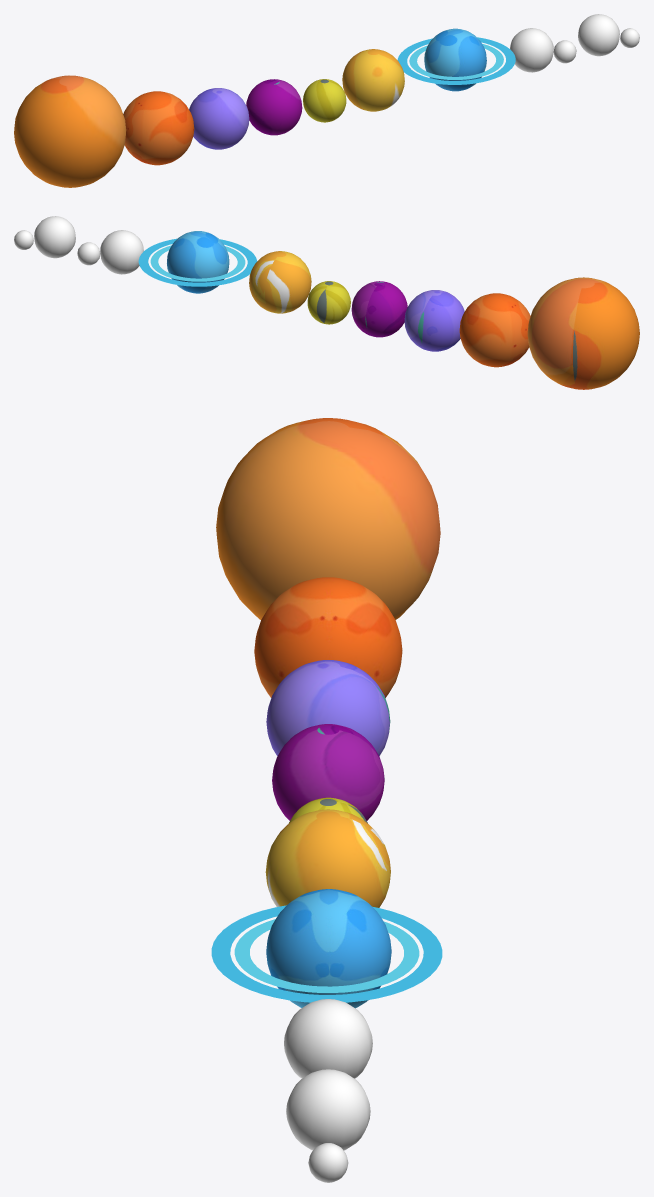
File: MDL_20_Planetas_0.fbx
3 views of the same model, one above another, from view 1: azimuth 30°, elevation 25°; view 2: azimuth 150°, elevation 25°; view 3: azimuth 270°, elevation 25° (orthographic). The views are drawn at different scales.
Visible parts, largest first — view 1: MDL_Planeta_11, MDL_Planeta_6, MDL_Planeta_2, MDL_Planeta_5, MDL_Planeta_3, MDL_Planeta_1, MDL_Planeta_7, MDL_Planeta_4, MDL_Planeta_9, MDL_Planeta_8, MDL_Planeta_10; view 2: MDL_Planeta_11, MDL_Planeta_6, MDL_Planeta_2, MDL_Planeta_5, MDL_Planeta_3, MDL_Planeta_1, MDL_Planeta_7, MDL_Planeta_4, MDL_Planeta_9, MDL_Planeta_8, MDL_Planeta_10; view 3: MDL_Planeta_11, MDL_Planeta_6, MDL_Planeta_2, MDL_Planeta_5, MDL_Planeta_1, MDL_Planeta_3, MDL_Planeta_7, MDL_Planeta_9, MDL_Planeta_10.
Boxes of the visible parts, x1,y1,x2,y2 form: MDL_Planeta_11: [14, 75, 126, 187]; MDL_Planeta_6: [397, 28, 515, 91]; MDL_Planeta_2: [123, 91, 194, 165]; MDL_Planeta_5: [342, 49, 404, 111]; MDL_Planeta_3: [189, 88, 249, 149]; MDL_Planeta_1: [246, 79, 302, 135]; MDL_Planeta_7: [510, 28, 553, 72]; MDL_Planeta_4: [303, 79, 346, 122]; MDL_Planeta_9: [578, 14, 619, 56]; MDL_Planeta_8: [553, 40, 576, 63]; MDL_Planeta_10: [620, 28, 639, 47]; MDL_Planeta_11: [527, 277, 639, 389]; MDL_Planeta_6: [138, 231, 257, 293]; MDL_Planeta_2: [459, 293, 530, 367]; MDL_Planeta_5: [249, 251, 311, 313]; MDL_Planeta_3: [404, 290, 464, 351]; MDL_Planeta_1: [351, 281, 407, 337]; MDL_Planeta_7: [100, 230, 143, 274]; MDL_Planeta_4: [307, 281, 350, 324]; MDL_Planeta_9: [34, 216, 75, 258]; MDL_Planeta_8: [77, 242, 100, 265]; MDL_Planeta_10: [14, 230, 33, 249]; MDL_Planeta_11: [216, 418, 440, 619]; MDL_Planeta_6: [211, 889, 442, 1008]; MDL_Planeta_2: [254, 577, 402, 697]; MDL_Planeta_5: [265, 809, 390, 907]; MDL_Planeta_1: [272, 724, 384, 820]; MDL_Planeta_3: [266, 660, 390, 755]; MDL_Planeta_7: [284, 999, 372, 1078]; MDL_Planeta_9: [286, 1069, 370, 1150]; MDL_Planeta_10: [308, 1143, 348, 1182].
Bounding box in the file's own units: 3922 × 626 × 635.
